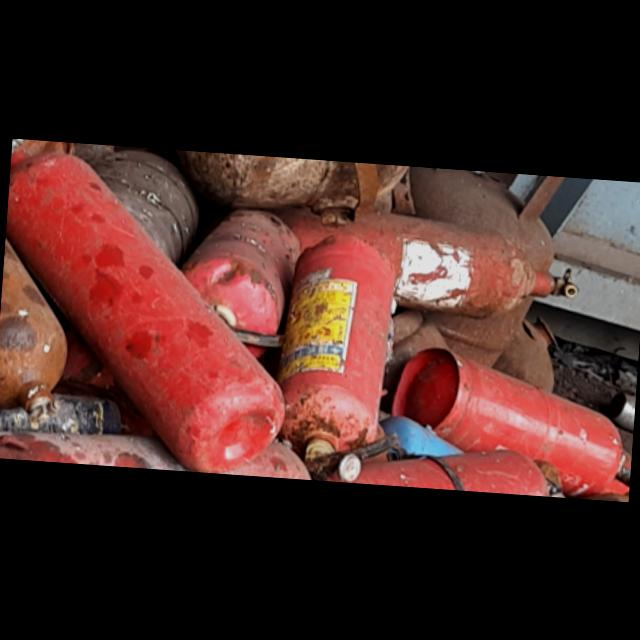Cylinders: (175, 150, 408, 205)
